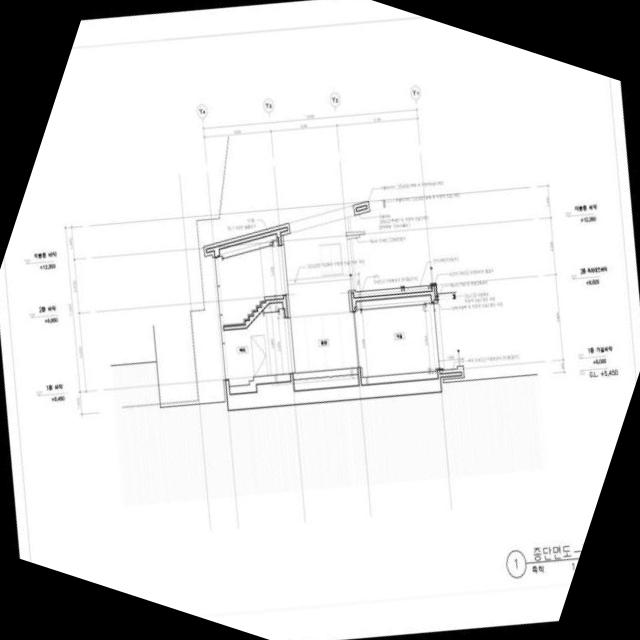background: (0, 0, 640, 640)
space_living_room: (355, 295, 439, 384)
space_other: (223, 302, 292, 393)
space_staircase: (217, 234, 286, 327)
